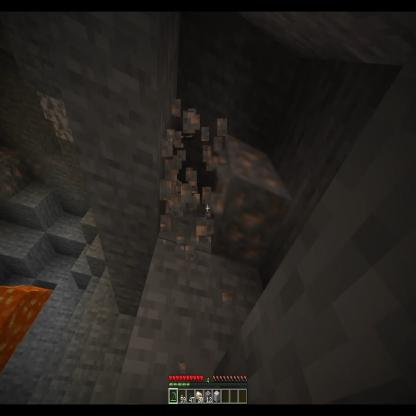iron ore: (211, 139, 294, 268), (0, 148, 29, 198), (28, 154, 52, 188)
